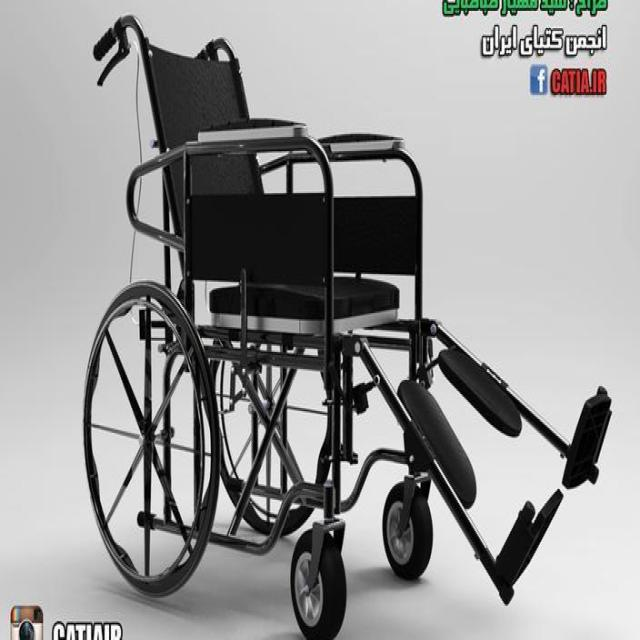wheelchairs: (68, 8, 616, 640)
